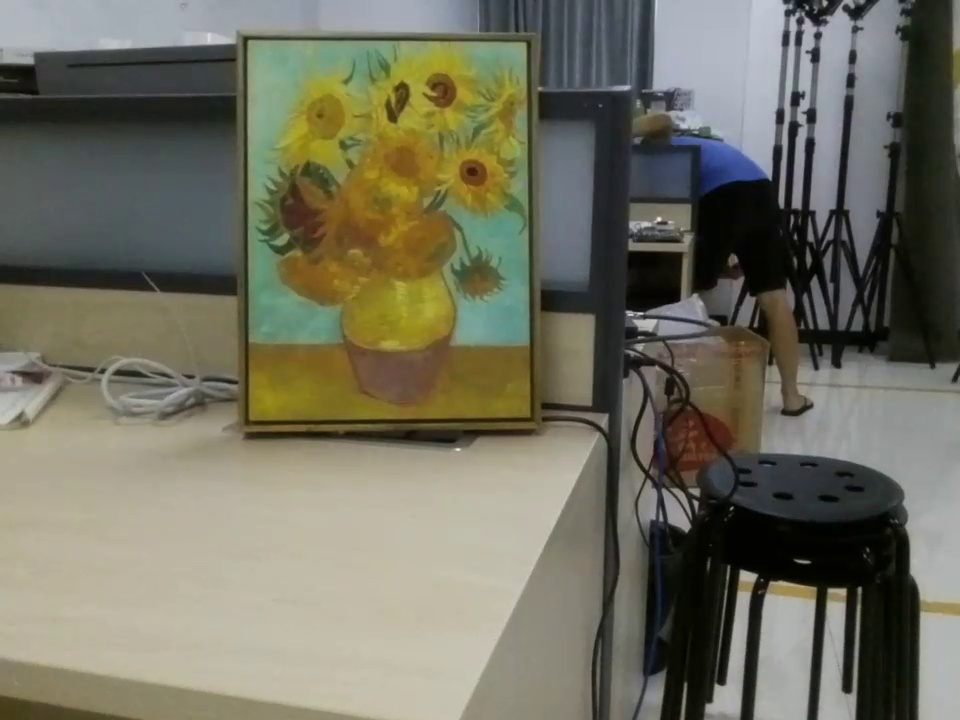painting: (235, 30, 554, 440)
